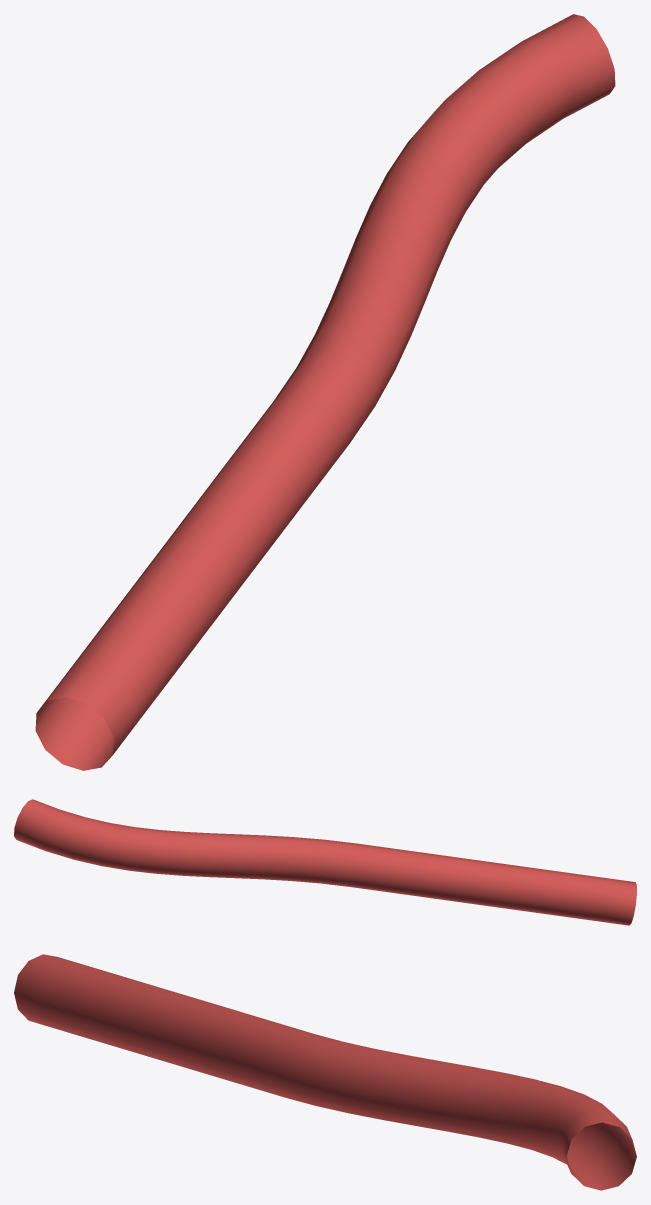
3 views of the same model, one above another, from view 1: azimuth 30°, elevation 25°; view 2: azimuth 150°, elevation 25°; view 3: azimuth 270°, elevation 25° (orthographic). The views are drawn at different scales.
Visible parts, largest first — view 1: 右侧筛后动脉; view 2: 右侧筛后动脉; view 3: 右侧筛后动脉.
Part boxes in pixels (x1,y1,x2,y2): 右侧筛后动脉: [35, 14, 615, 770]; 右侧筛后动脉: [14, 799, 636, 925]; 右侧筛后动脉: [14, 954, 636, 1190].
Bounding box in the file's own units: 0.0121 × 0.00376 × 0.00912.
